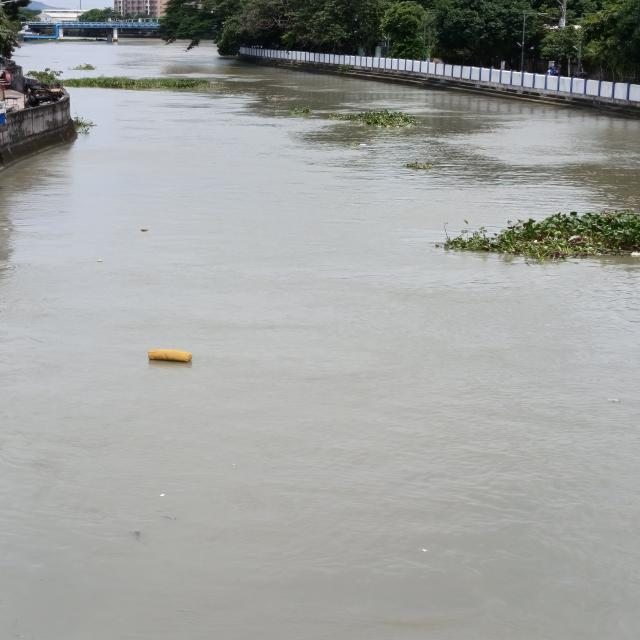Biological Debris: (131, 336, 210, 378)
Organic Debris: (413, 195, 640, 280), (31, 62, 238, 101), (314, 104, 441, 134), (67, 113, 102, 147), (116, 523, 155, 550), (267, 98, 318, 117), (402, 157, 442, 177), (65, 57, 105, 72), (150, 508, 179, 522), (67, 36, 107, 45)
Plastic: (406, 535, 437, 560), (598, 392, 628, 411), (121, 220, 158, 234), (79, 254, 111, 267), (154, 488, 171, 501), (228, 460, 240, 471)
